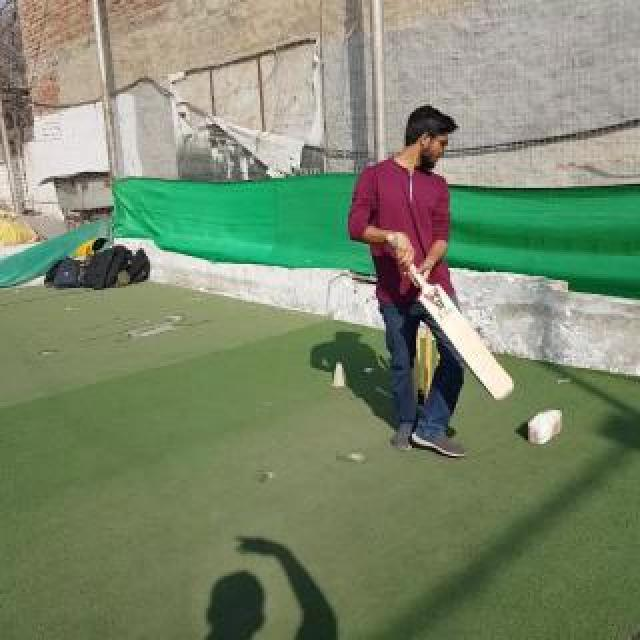bat: (386, 232, 514, 402)
